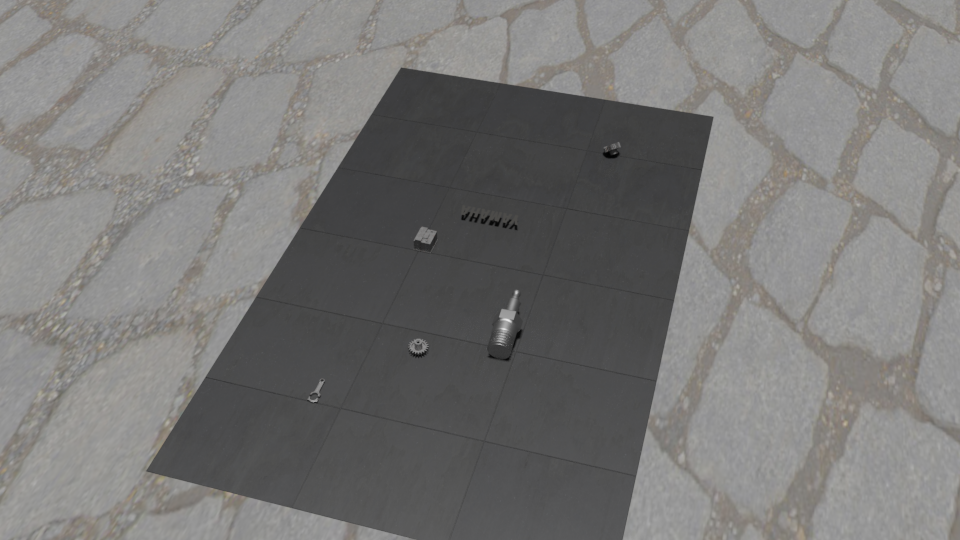yamaha_letters: (460, 204, 518, 225)
